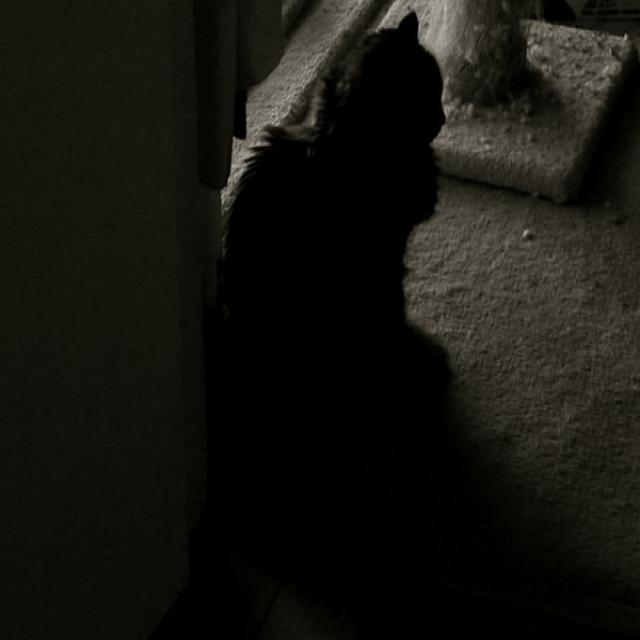Cat: (227, 3, 470, 475)
